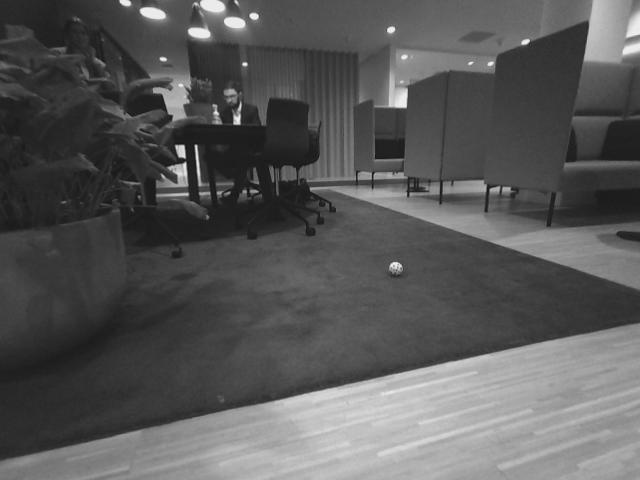dogtoy: (383, 257, 409, 278)
